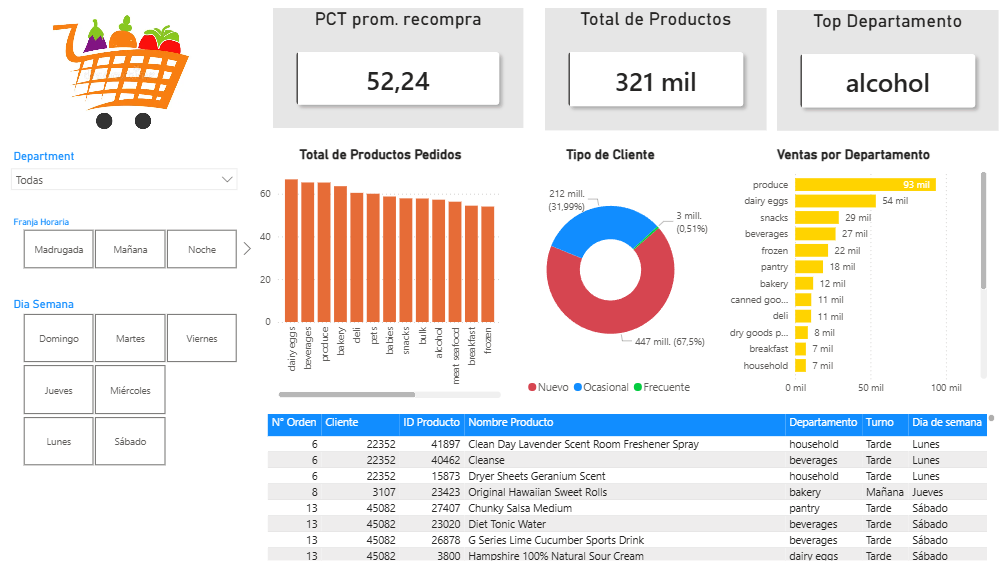

What the dashboard file says about the page in this screenshot:
{"tool":"powerbi","page":{"name":"Ventas por Departamento","canvas":[1280,720],"ordinal":0},"visuals":[{"type":"barChart","title":"Ventas por Departamento","fields":{"Category":["ventas_por_departamento.department"],"Y":["Sum(ventas_por_departamento.total_productos_pedidos)"]},"box":[903.8,186.2,343.8,320],"z":0},{"type":"clusteredColumnChart","title":"Total de Productos Pedidos","fields":{"Category":["ventas_por_departamento.department"],"Y":["Sum(ventas_por_departamento.pct_recompra)"]},"box":[328.8,186.2,311.2,320],"z":1000},{"type":"cardVisual","title":"PCT prom. recompra","fields":{"Data":["Avg(ventas_por_departamento.pct_recompra)"]},"box":[350,14.3,312.9,150],"z":2000},{"type":"cardVisual","title":"Total de Productos","fields":{"Data":["Sum(ventas_por_departamento.total_productos_pedidos)"]},"box":[690,14.3,277.1,152.9],"z":3000},{"type":"cardVisual","title":"Top Departamento","fields":{"Data":["Min(ventas_por_departamento.department)"]},"box":[980,15.7,277.1,151.4],"z":4000},{"type":"tableEx","fields":{"Values":["ventas_detalle.order_id","ventas_detalle.user_id","ventas_detalle.product_id","ventas_detalle.product_name","ventas_detalle.department","ventas_detalle.franja_horaria","ventas_detalle.dia_semana"]},"box":[337.1,515.7,920,192.9],"z":5000},{"type":"slicer","fields":{"Values":["ventas_por_departamento.department"]},"box":[12.9,185.7,302.9,75.7],"z":6000},{"type":"slicer","fields":{"Values":["ventas_detalle.franja_horaria"]},"box":[12.5,270,316.2,76.2],"z":7000},{"type":"slicer","fields":{"Values":["ventas_detalle.dia_semana"]},"box":[12.5,371.2,316.2,221.2],"z":8000},{"type":"image","box":[37.5,22.5,245,143.8],"z":9000},{"type":"donutChart","title":"Tipo de Cliente","fields":{"Category":["frecuencia_usuarios.tipo_cliente"],"Y":["Sum(frecuencia_usuarios.user_id)"]},"box":[640,186.2,263.8,320],"z":10000}]}

Visuals, with their boxes in screenshot pixels (x1, y1, x2, y2), scaled from the page's 1280x720 canvas onto the 1006x567 screenshot:
"Ventas por Departamento" barChart: 710,147,981,399
"Total de Productos Pedidos" clusteredColumnChart: 258,147,503,399
"PCT prom. recompra" cardVisual: 275,11,521,129
"Total de Productos" cardVisual: 542,11,760,132
"Top Departamento" cardVisual: 770,12,988,132
tableEx - ventas_detalle.order_id x ventas_detalle.user_id: 265,406,988,558
slicer - ventas_por_departamento.department: 10,146,248,206
slicer - ventas_detalle.franja_horaria: 10,213,258,273
slicer - ventas_detalle.dia_semana: 10,292,258,467
image: 29,18,222,131
"Tipo de Cliente" donutChart: 503,147,710,399
